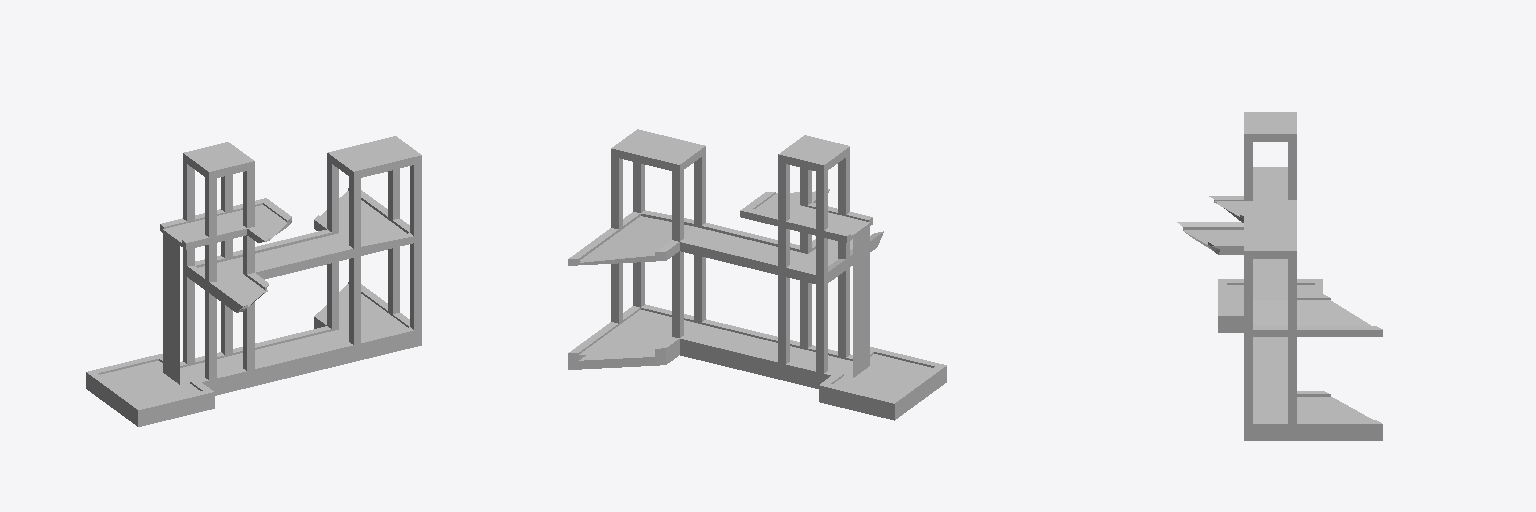
File: escher_waterfall.obj
The picture shows the model from 3 angles: view 1: azimuth 30°, elevation 25°; view 2: azimuth 150°, elevation 25°; view 3: azimuth 270°, elevation 25°; orthographic projection.
Visible parts, largest first — view 1: Structure, Water1, Water2, Waterfall, Water3; view 2: Structure, Water1, Water2, Waterfall, Water3; view 3: Structure, Water1, Water2, Water3.
Part boxes in pixels (x1,y1,x2,y2): Structure: (86, 136, 421, 426); Water1: (101, 284, 407, 404); Water2: (198, 191, 406, 305); Waterfall: (163, 230, 179, 384); Water3: (163, 205, 286, 241); Structure: (568, 129, 946, 420); Water1: (579, 310, 932, 398); Water2: (580, 216, 852, 270); Waterfall: (853, 223, 869, 377); Water3: (754, 191, 869, 234); Structure: (1177, 112, 1382, 440); Water1: (1227, 285, 1372, 419); Water2: (1184, 230, 1370, 325); Water3: (1215, 167, 1287, 215).
Size of the model in its own units: 390 by 283 by 236.